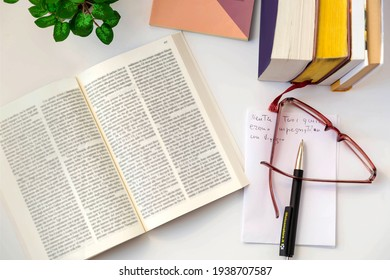Open Book: (1, 38, 243, 256)
